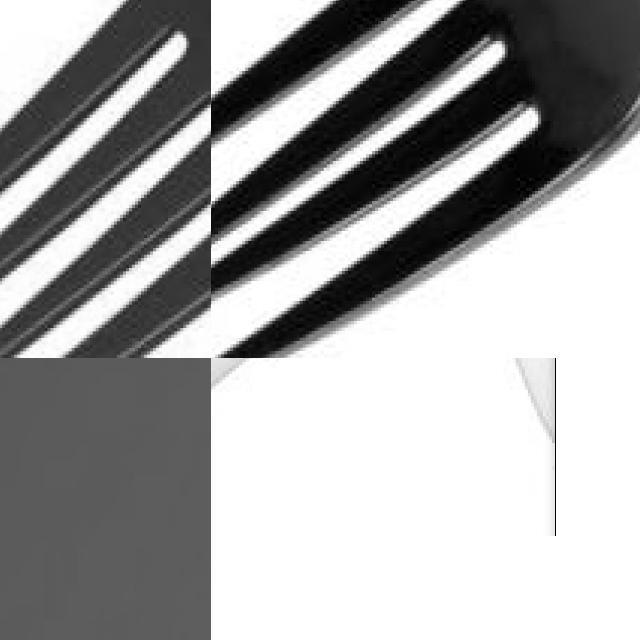forks: (211, 0, 640, 358), (0, 0, 211, 358), (324, 358, 640, 428)
